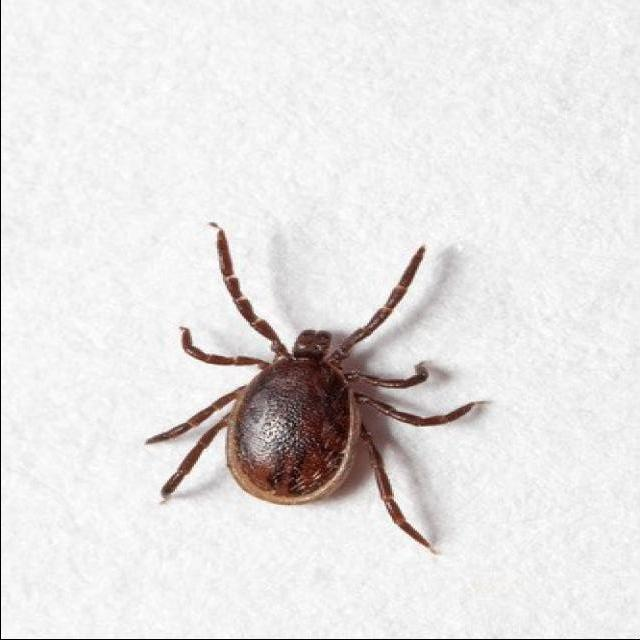Ixodes Ricinus-M: (148, 224, 486, 554)
